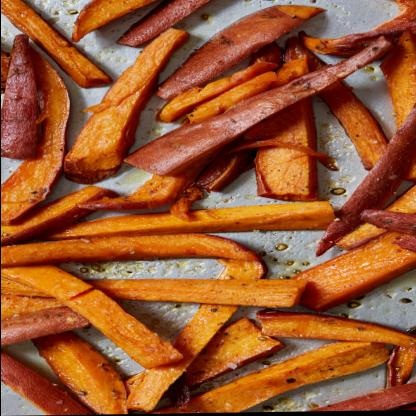---: (49, 23, 180, 198), (0, 260, 192, 368), (244, 44, 326, 211), (0, 233, 285, 281), (260, 300, 416, 359)
